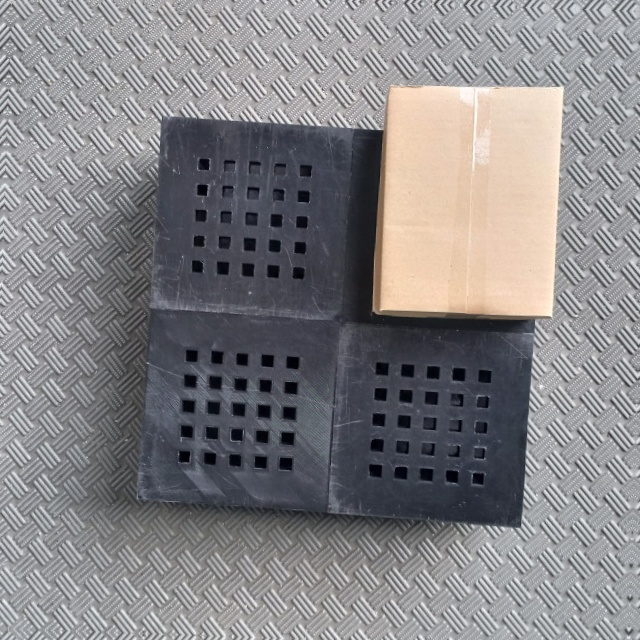box: (373, 81, 566, 324)
pallet: (106, 100, 569, 528)
